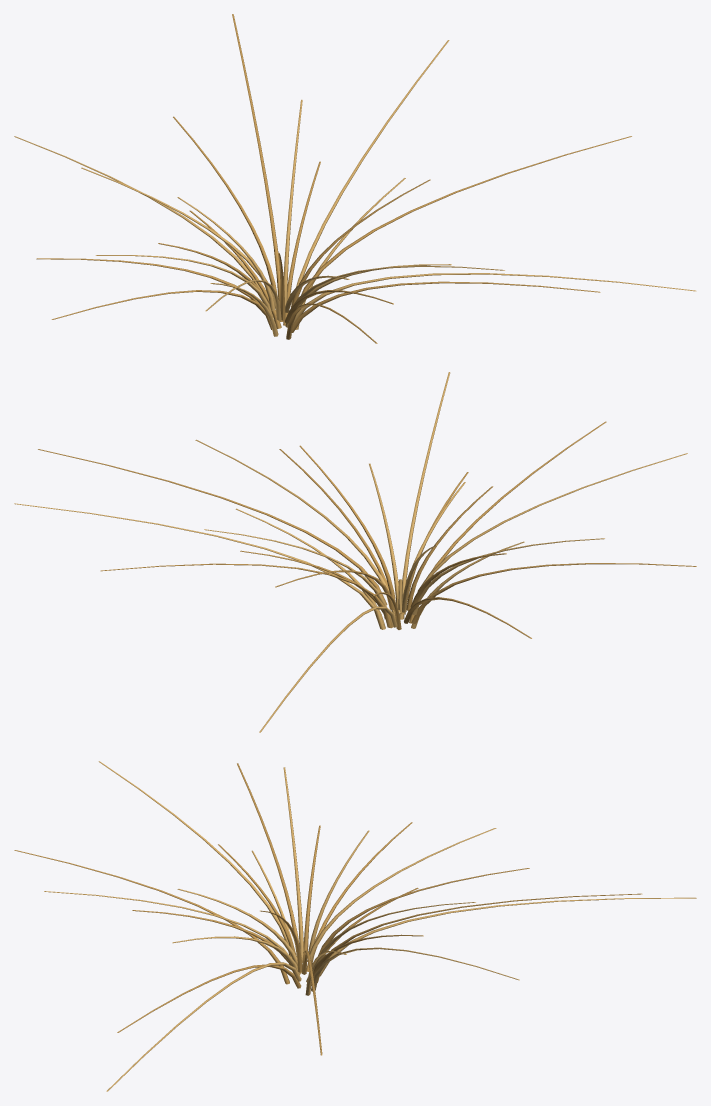
Rendered from pelos-choclo.glb.
The picture shows the model from 3 angles, top to bottom: view 1: azimuth 30°, elevation 25°; view 2: azimuth 150°, elevation 25°; view 3: azimuth 270°, elevation 25°; orthographic projection. The views are drawn at different scales.
Visible parts, largest first — view 1: pelo9, pelo24, pelo19, pelo14, pelo3, pelo22, pelo4, pelo17, pelo23, pelo12, pelo7, pelo1 (+1 smaller); view 2: pelo19, pelo14, pelo8, pelo23, pelo18, pelo9, pelo24, pelo13, pelo4, pelo11; view 3: pelo4, pelo18, pelo13, pelo2, pelo12, pelo9, pelo24, pelo23, pelo17, pelo8, pelo14, pelo3.
Boxes of the visible parts, box(x1,y1,x2,y2) form: pelo9: box(232, 14, 283, 321); pelo24: box(293, 273, 696, 324); pelo19: box(301, 136, 631, 305); pelo14: box(291, 40, 449, 307); pelo3: box(292, 281, 600, 332); pelo22: box(283, 99, 302, 306); pelo4: box(14, 136, 273, 317); pelo17: box(173, 116, 277, 294); pelo23: box(51, 290, 271, 329); pelo12: box(81, 167, 275, 308); pelo7: box(36, 258, 259, 303); pelo1: box(283, 161, 320, 325); pelo19: box(38, 449, 387, 604); pelo14: box(14, 503, 384, 629); pelo8: box(399, 372, 450, 619); pelo23: box(411, 563, 696, 623); pelo18: box(417, 453, 687, 591); pelo9: box(100, 563, 392, 627); pelo24: box(195, 439, 395, 616); pelo13: box(409, 421, 606, 623); pelo4: box(259, 606, 397, 732); pelo11: box(299, 445, 395, 602); pelo4: box(319, 897, 696, 976); pelo18: box(98, 761, 292, 958); pelo13: box(14, 850, 289, 984); pelo2: box(283, 767, 303, 962); pelo12: box(307, 828, 496, 961); pelo9: box(317, 893, 642, 982); pelo24: box(106, 962, 301, 1091); pelo23: box(237, 763, 301, 972); pelo17: box(318, 868, 529, 955); pelo8: box(44, 891, 291, 965); pelo14: box(311, 947, 519, 991); pelo3: box(117, 964, 301, 1032).
Size of what is drawn, in the model's own units: 2.66 by 0.6515 by 2.64.
